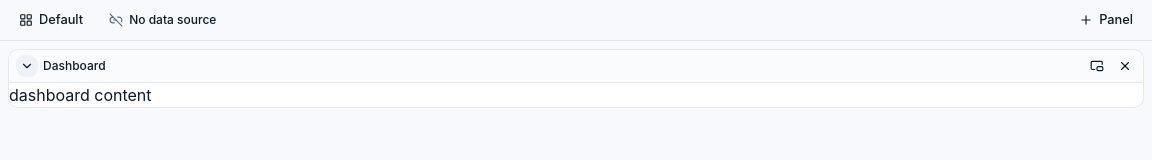
Test: panel operations › collapses a panel, hiding its content but keeping its title bar
The width and height of the screenshot is (1152, 160).
expect the text "dashboard content" is shown: met, box 9,85 -> 152,105
Click the button named "Collapse Dashboard": (27, 66) 15,54 -> 39,78
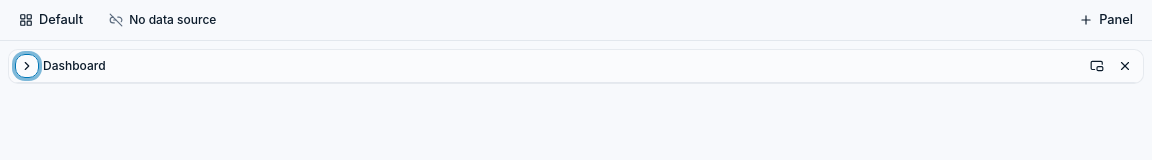
expect the text "dashboard content" is gone: met
expect the button named "Expand Dashboard" is shown: met, box 15,54 -> 39,78
